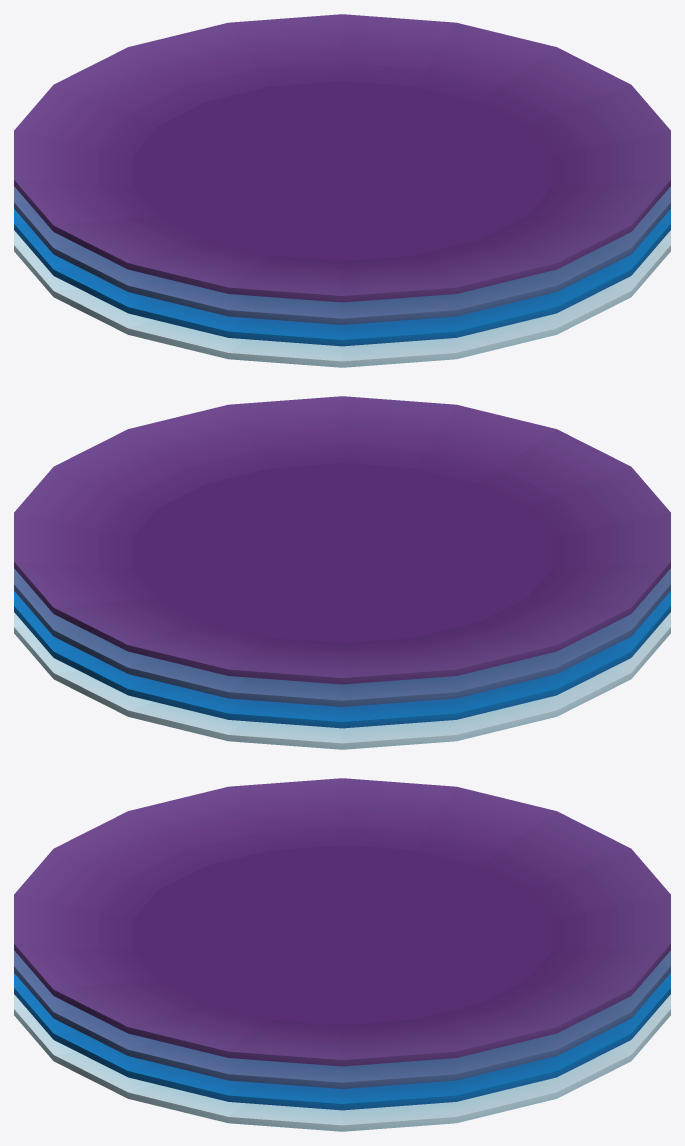
The model's file is Plates.FBX.
The picture shows the model from 3 angles, top to bottom: view 1: azimuth 30°, elevation 25°; view 2: azimuth 150°, elevation 25°; view 3: azimuth 270°, elevation 25°; orthographic projection.
Visible parts, largest first — view 1: Plate003, Plate002, Plate, Plate001; view 2: Plate003, Plate002, Plate, Plate001; view 3: Plate003, Plate002, Plate, Plate001.
Boxes of the visible parts, x1=… form: Plate003: x1=14, y1=14, x2=670, y2=302; Plate002: x1=14, y1=186, x2=670, y2=324; Plate: x1=14, y1=230, x2=670, y2=367; Plate001: x1=14, y1=209, x2=670, y2=346; Plate003: x1=14, y1=396, x2=670, y2=684; Plate002: x1=14, y1=568, x2=670, y2=706; Plate: x1=14, y1=612, x2=670, y2=749; Plate001: x1=14, y1=591, x2=670, y2=728; Plate003: x1=14, y1=778, x2=670, y2=1066; Plate002: x1=14, y1=950, x2=670, y2=1088; Plate: x1=14, y1=994, x2=670, y2=1131; Plate001: x1=14, y1=973, x2=670, y2=1110.
Size of the model in its own units: 15.25 by 2.5 by 15.02.
1 material, 1 textured.
